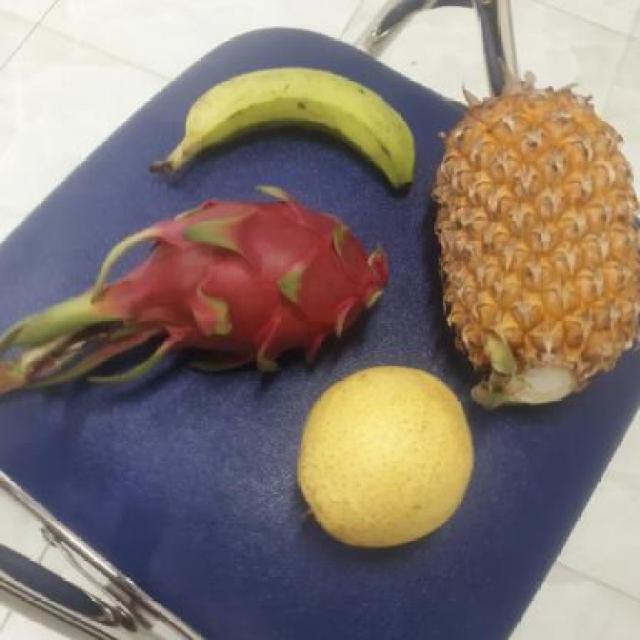banana: (175, 65, 422, 193)
dragon fruit: (108, 192, 420, 376)
pear: (293, 363, 479, 548)
pineapple: (432, 97, 639, 406)
